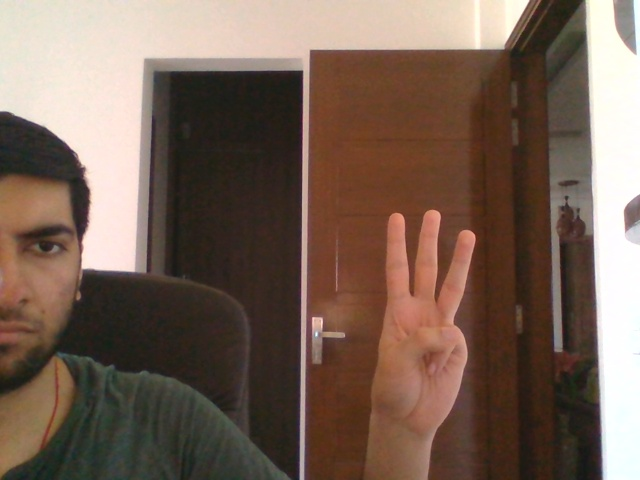LetterW: (365, 207, 478, 441)
